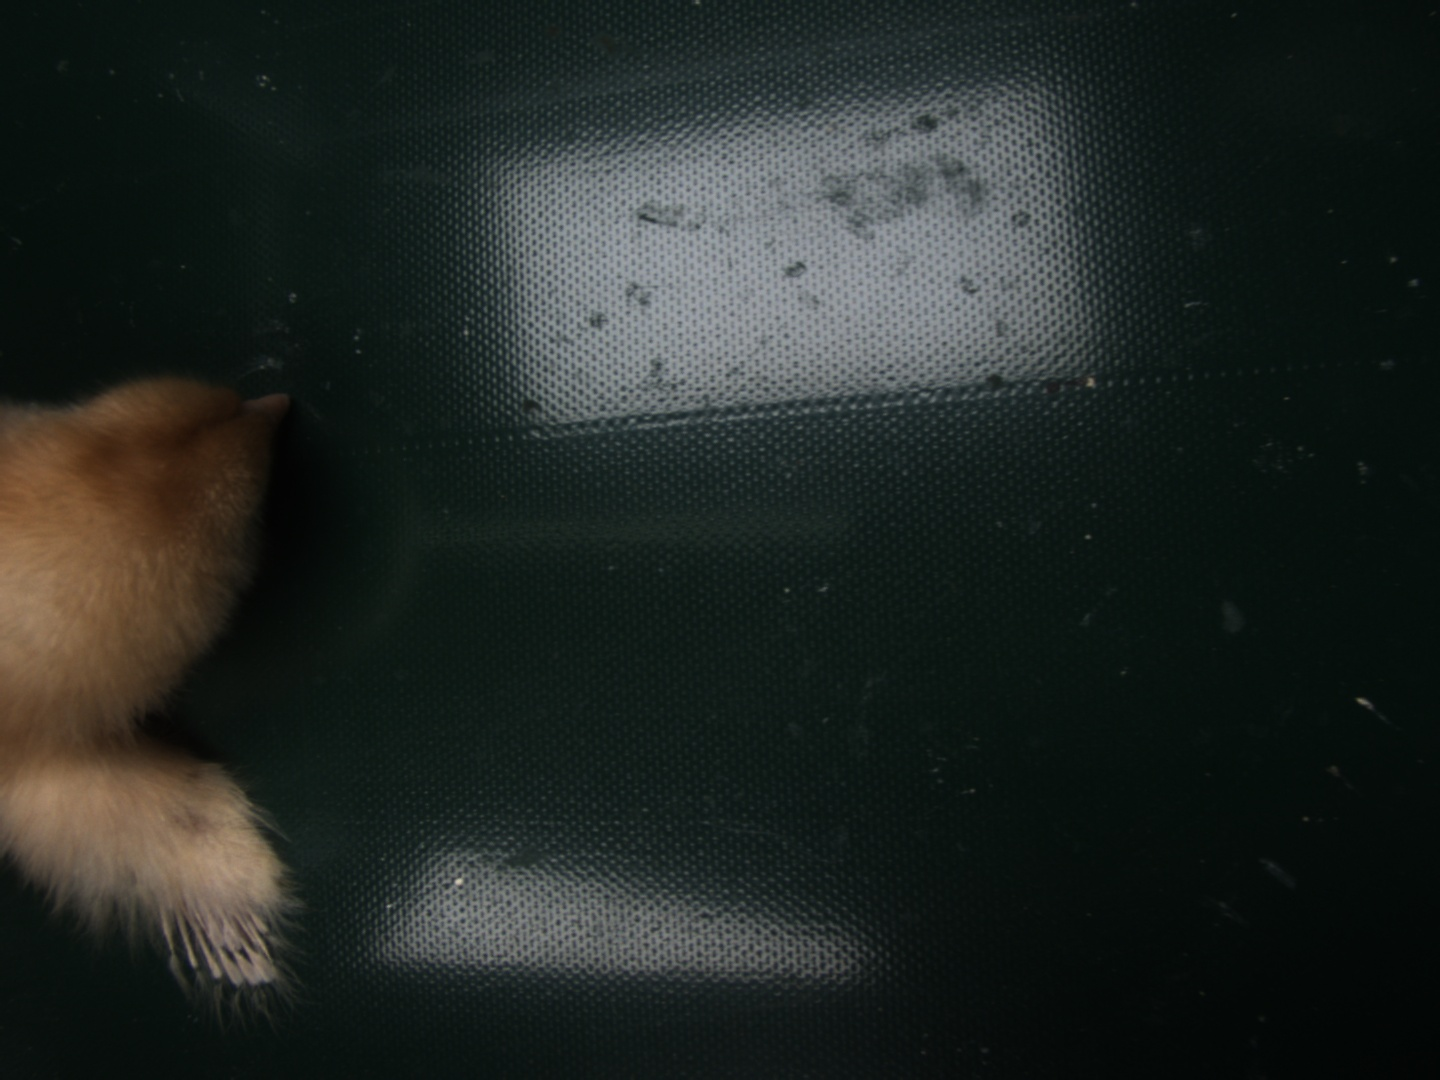female: (147, 905, 280, 988)
